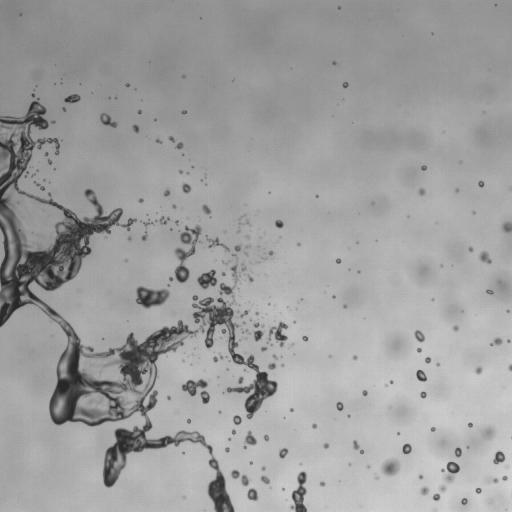droplet: (136, 286, 169, 308), (182, 380, 209, 403), (266, 321, 287, 346), (242, 321, 263, 341), (441, 461, 460, 483), (197, 269, 217, 289), (381, 458, 400, 476), (100, 113, 117, 127), (243, 431, 256, 448), (482, 425, 496, 439), (493, 450, 505, 464), (478, 251, 491, 263), (64, 94, 80, 103), (414, 330, 425, 342), (247, 488, 258, 500), (416, 370, 426, 381), (182, 182, 191, 193), (402, 443, 411, 454), (490, 337, 502, 345), (156, 217, 169, 224), (502, 222, 511, 232), (279, 448, 288, 458), (260, 475, 270, 484), (202, 204, 210, 215), (233, 415, 241, 425), (420, 486, 428, 495), (454, 447, 461, 457), (275, 220, 283, 228), (163, 188, 170, 196), (475, 366, 482, 374), (336, 402, 343, 410), (176, 142, 183, 149), (418, 188, 425, 195), (133, 124, 139, 132), (234, 245, 242, 251), (268, 363, 276, 369), (420, 391, 426, 398), (461, 498, 467, 505), (169, 136, 175, 142), (478, 181, 484, 187), (452, 325, 458, 331), (302, 335, 308, 341), (425, 357, 431, 363), (486, 289, 493, 294), (342, 82, 348, 87), (268, 250, 273, 256), (323, 443, 329, 448), (502, 475, 507, 481), (475, 488, 481, 493), (37, 234, 44, 238), (156, 138, 161, 143), (421, 165, 426, 170), (244, 220, 249, 225), (468, 247, 473, 252), (336, 258, 341, 263), (261, 346, 266, 351), (362, 390, 367, 395), (468, 422, 473, 427), (320, 481, 325, 486), (508, 364, 511, 371), (181, 110, 186, 114), (353, 355, 357, 360), (312, 423, 316, 428), (232, 429, 236, 434), (264, 435, 268, 440), (225, 447, 229, 452), (139, 198, 143, 202), (417, 348, 421, 352), (431, 427, 435, 431), (261, 466, 265, 470), (48, 159, 51, 164), (273, 354, 276, 359), (31, 93, 35, 96), (138, 110, 141, 114), (175, 220, 178, 224), (245, 235, 249, 238), (343, 305, 347, 308), (375, 475, 378, 479), (419, 475, 423, 478), (126, 83, 129, 86), (179, 170, 182, 173), (455, 188, 458, 191), (172, 205, 175, 208), (237, 229, 240, 232), (128, 237, 131, 240), (246, 245, 249, 248), (222, 272, 225, 275), (167, 396, 170, 399), (290, 408, 293, 411), (187, 419, 190, 422), (333, 61, 335, 64), (62, 108, 65, 110), (45, 152, 47, 155), (315, 195, 318, 197), (297, 243, 300, 245), (332, 295, 335, 297), (255, 312, 258, 314), (436, 363, 439, 365), (390, 380, 392, 383), (228, 438, 231, 440), (182, 451, 184, 454), (249, 462, 252, 464), (348, 463, 351, 465), (367, 465, 369, 468), (32, 174, 34, 176), (472, 211, 474, 213), (245, 253, 247, 255), (264, 257, 266, 259), (243, 337, 245, 339), (244, 369, 246, 371), (282, 488, 284, 490)
ligament: (0, 98, 276, 511), (168, 225, 201, 283), (290, 471, 307, 511), (206, 236, 229, 251), (231, 470, 250, 485), (142, 220, 155, 241), (433, 485, 446, 500), (353, 440, 363, 453), (213, 354, 224, 362), (485, 477, 498, 483), (35, 182, 44, 190), (232, 253, 238, 260), (222, 261, 229, 264), (239, 215, 244, 219), (432, 509, 436, 511)
